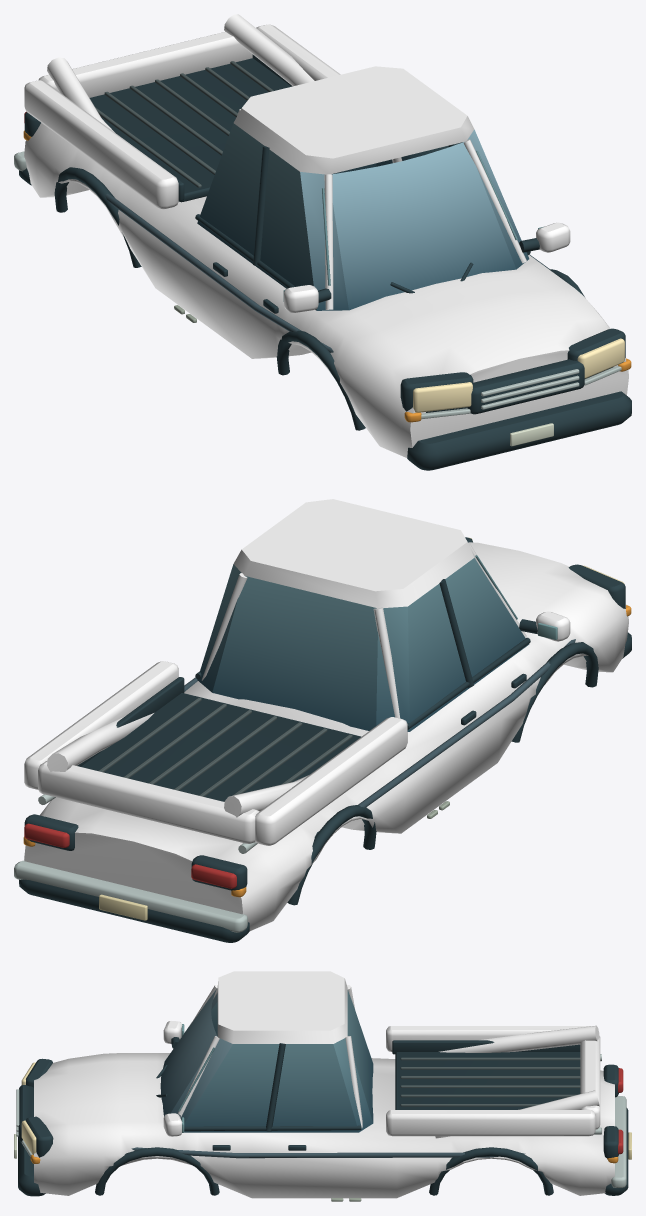
The model's file is oxbow.glb.
3 views of the same model, one above another, from view 1: azimuth 30°, elevation 25°; view 2: azimuth 150°, elevation 25°; view 3: azimuth 270°, elevation 25° (orthographic). The views are drawn at different scales.
Parts seen in each view (by area): view 1: Chassis, Headlamps; view 2: Chassis, BrakeLamps; view 3: Chassis, Headlamps.
Part boxes in pixels (x1=…): Chassis: x1=14, y1=14, x2=631, y2=470; Headlamps: x1=413, y1=338, x2=624, y2=412; Chassis: x1=14, y1=499, x2=631, y2=942; BrakeLamps: x1=24, y1=823, x2=236, y2=888; Chassis: x1=14, y1=971, x2=631, y2=1201; Headlamps: x1=21, y1=1062, x2=36, y2=1155.
Size of the model in its own units: 1.91 by 1.36 by 4.81.
